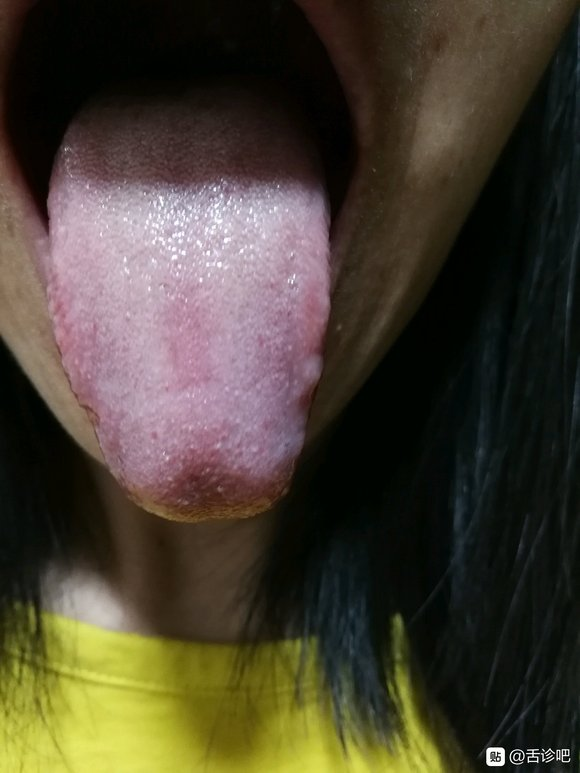baitaishe: (47, 72, 330, 523)
